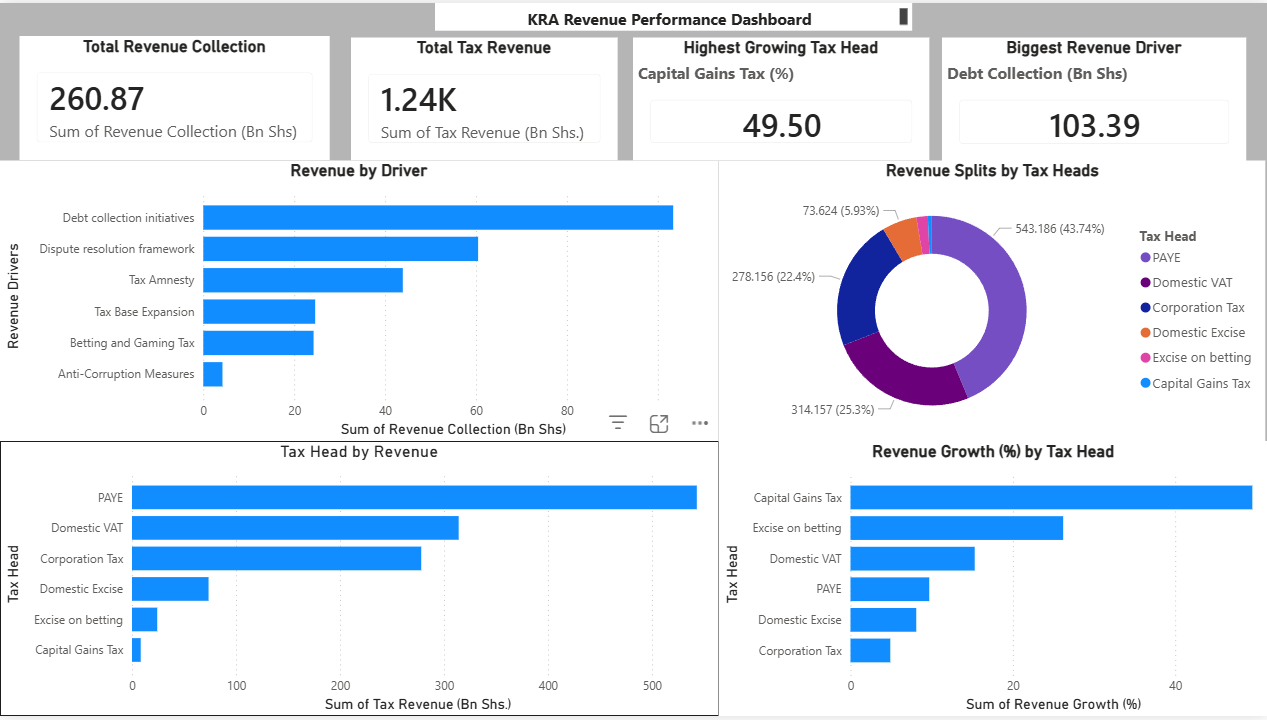

Layout of this report page (visuals, bound fields, positions):
{"tool":"powerbi","page":{"name":"Page 1","canvas":[1280,720],"ordinal":0},"visuals":[{"type":"cardVisual","title":"Total Revenue Collection","fields":{"Data":["Sum(key-revenue-drivers-for-kenya.Revenue Collection (Bn Shs))"]},"box":[19,34,313,125],"z":0},{"type":"cardVisual","title":"Total Tax Revenue","fields":{"Data":["Sum(performance-of-key-tax-heads.Tax Revenue (Bn Shs.))"]},"box":[354,35,269,124],"z":1},{"type":"clusteredBarChart","title":"Revenue by Driver","fields":{"Category":["key-revenue-drivers-for-kenya.Revenue Drivers"],"Y":["Sum(key-revenue-drivers-for-kenya.Revenue Collection (Bn Shs))"]},"box":[0,158.3,725,283.3],"z":2},{"type":"clusteredBarChart","title":"Tax Head by Revenue","fields":{"Y":["Sum(performance-of-key-tax-heads.Tax Revenue (Bn Shs.))"],"Category":["performance-of-key-tax-heads.Tax Head"]},"box":[0,442.2,725.7,277.8],"z":3},{"type":"donutChart","title":"Revenue Splits by Tax Heads","fields":{"Category":["performance-of-key-tax-heads.Tax Head"],"Y":["Sum(performance-of-key-tax-heads.Tax Revenue (Bn Shs.))"]},"box":[725,158.3,553.3,283.3],"z":4},{"type":"cardVisual","title":"Highest Growing Tax Head","fields":{"Data":["Max(performance-of-key-tax-heads.Revenue Growth (%))"]},"box":[640,35,299,124],"z":5},{"type":"cardVisual","title":"Biggest Revenue Driver","fields":{"Data":["Max(key-revenue-drivers-for-kenya.Revenue Collection (Bn Shs))"]},"box":[952,35,307,125],"z":6},{"type":"clusteredBarChart","title":"Revenue Growth (%) by Tax Head","fields":{"Category":["performance-of-key-tax-heads.Tax Head"],"Y":["Sum(performance-of-key-tax-heads.Revenue Growth (%))"]},"box":[725,441.7,555,278.3],"z":7},{"type":"textbox","box":[439,0,482,28],"z":8}]}

Visuals, with their boxes in screenshot pixels (x1, y1, x2, y2), scaled from the page's 1280x720 canvas onto the 1267x720 screenshot:
"Total Revenue Collection" cardVisual: <box>19,34,329,159</box>
"Total Tax Revenue" cardVisual: <box>350,35,617,159</box>
"Revenue by Driver" clusteredBarChart: <box>0,158,718,442</box>
"Tax Head by Revenue" clusteredBarChart: <box>0,442,718,719</box>
"Revenue Splits by Tax Heads" donutChart: <box>718,158,1265,442</box>
"Highest Growing Tax Head" cardVisual: <box>634,35,929,159</box>
"Biggest Revenue Driver" cardVisual: <box>942,35,1246,160</box>
"Revenue Growth (%) by Tax Head" clusteredBarChart: <box>718,442,1266,719</box>
textbox: <box>435,0,912,28</box>
